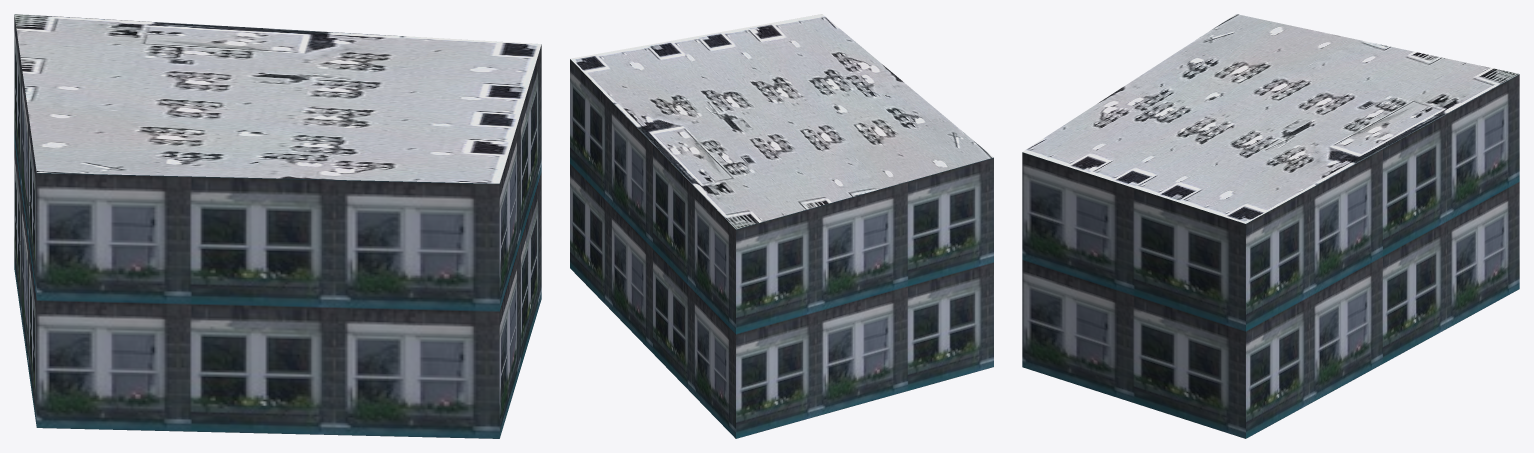
File: ResTex__997.fbx
The picture shows the model from 3 angles, left to right: view 1: azimuth 30°, elevation 25°; view 2: azimuth 150°, elevation 25°; view 3: azimuth 270°, elevation 25°; orthographic projection. The views are drawn at different scales.
Parts seen in each view (by area): view 1: CityEngineMaterial_11_m, CityEngineMaterial_8_m; view 2: CityEngineMaterial_11_m, CityEngineMaterial_8_m; view 3: CityEngineMaterial_11_m, CityEngineMaterial_8_m.
Boxes of the visible parts, left/top/right/bottom form: CityEngineMaterial_11_m: left=14, top=15, right=541, bottom=438; CityEngineMaterial_8_m: left=14, top=14, right=541, bottom=183; CityEngineMaterial_11_m: left=570, top=59, right=993, bottom=438; CityEngineMaterial_8_m: left=570, top=14, right=993, bottom=229; CityEngineMaterial_11_m: left=1022, top=74, right=1519, bottom=438; CityEngineMaterial_8_m: left=1022, top=14, right=1519, bottom=223.
Size of the model in its own units: 12.56 by 6 by 12.58.
Materials: 2 (2 with a texture image).
